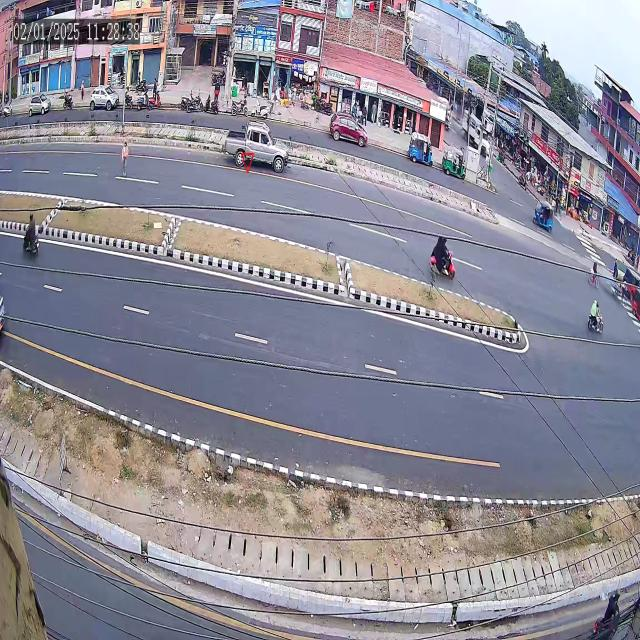motorcycle: (13, 209, 46, 260), (576, 293, 610, 341)
